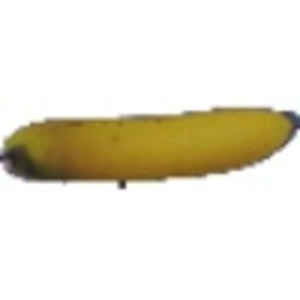banana: (1, 89, 294, 205)
